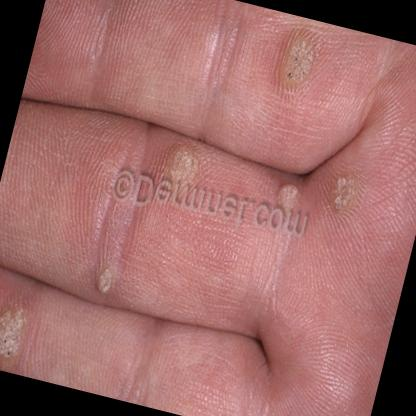Warts: (267, 20, 326, 116), (0, 279, 46, 376), (319, 160, 363, 234), (83, 251, 129, 310)
